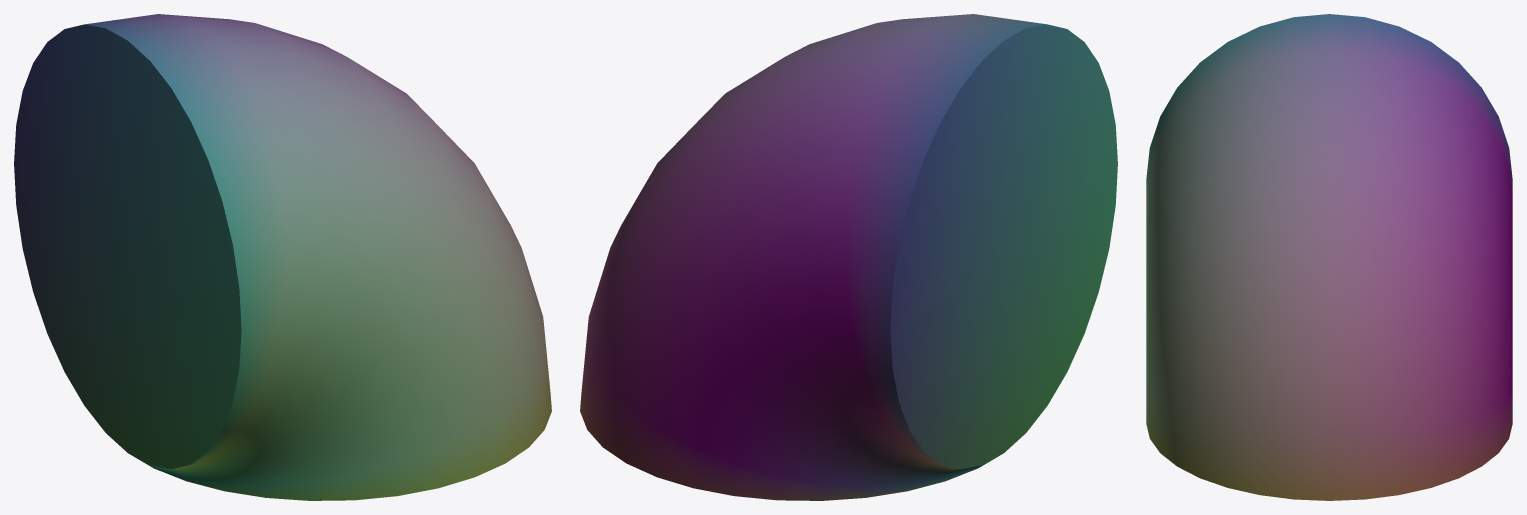
The model's file is SM_ScalableCylinder90R0.gltf.
3 views of the same model, side by side, from view 1: azimuth 30°, elevation 25°; view 2: azimuth 150°, elevation 25°; view 3: azimuth 270°, elevation 25° (orthographic). The views are drawn at different scales.
Parts seen in each view (by area): view 1: SM_ScalableCylinder90R0; view 2: SM_ScalableCylinder90R0; view 3: SM_ScalableCylinder90R0.
Part boxes in pixels (left/top/right/bottom): SM_ScalableCylinder90R0: left=14, top=14, right=551, bottom=500; SM_ScalableCylinder90R0: left=580, top=14, right=1117, bottom=500; SM_ScalableCylinder90R0: left=1146, top=14, right=1512, bottom=500.
Size of the model in its own units: 0.3 by 0.3 by 0.3.
